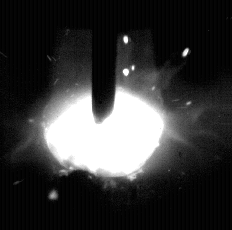arame: (92, 0, 117, 123)
poca: (43, 0, 164, 230)
